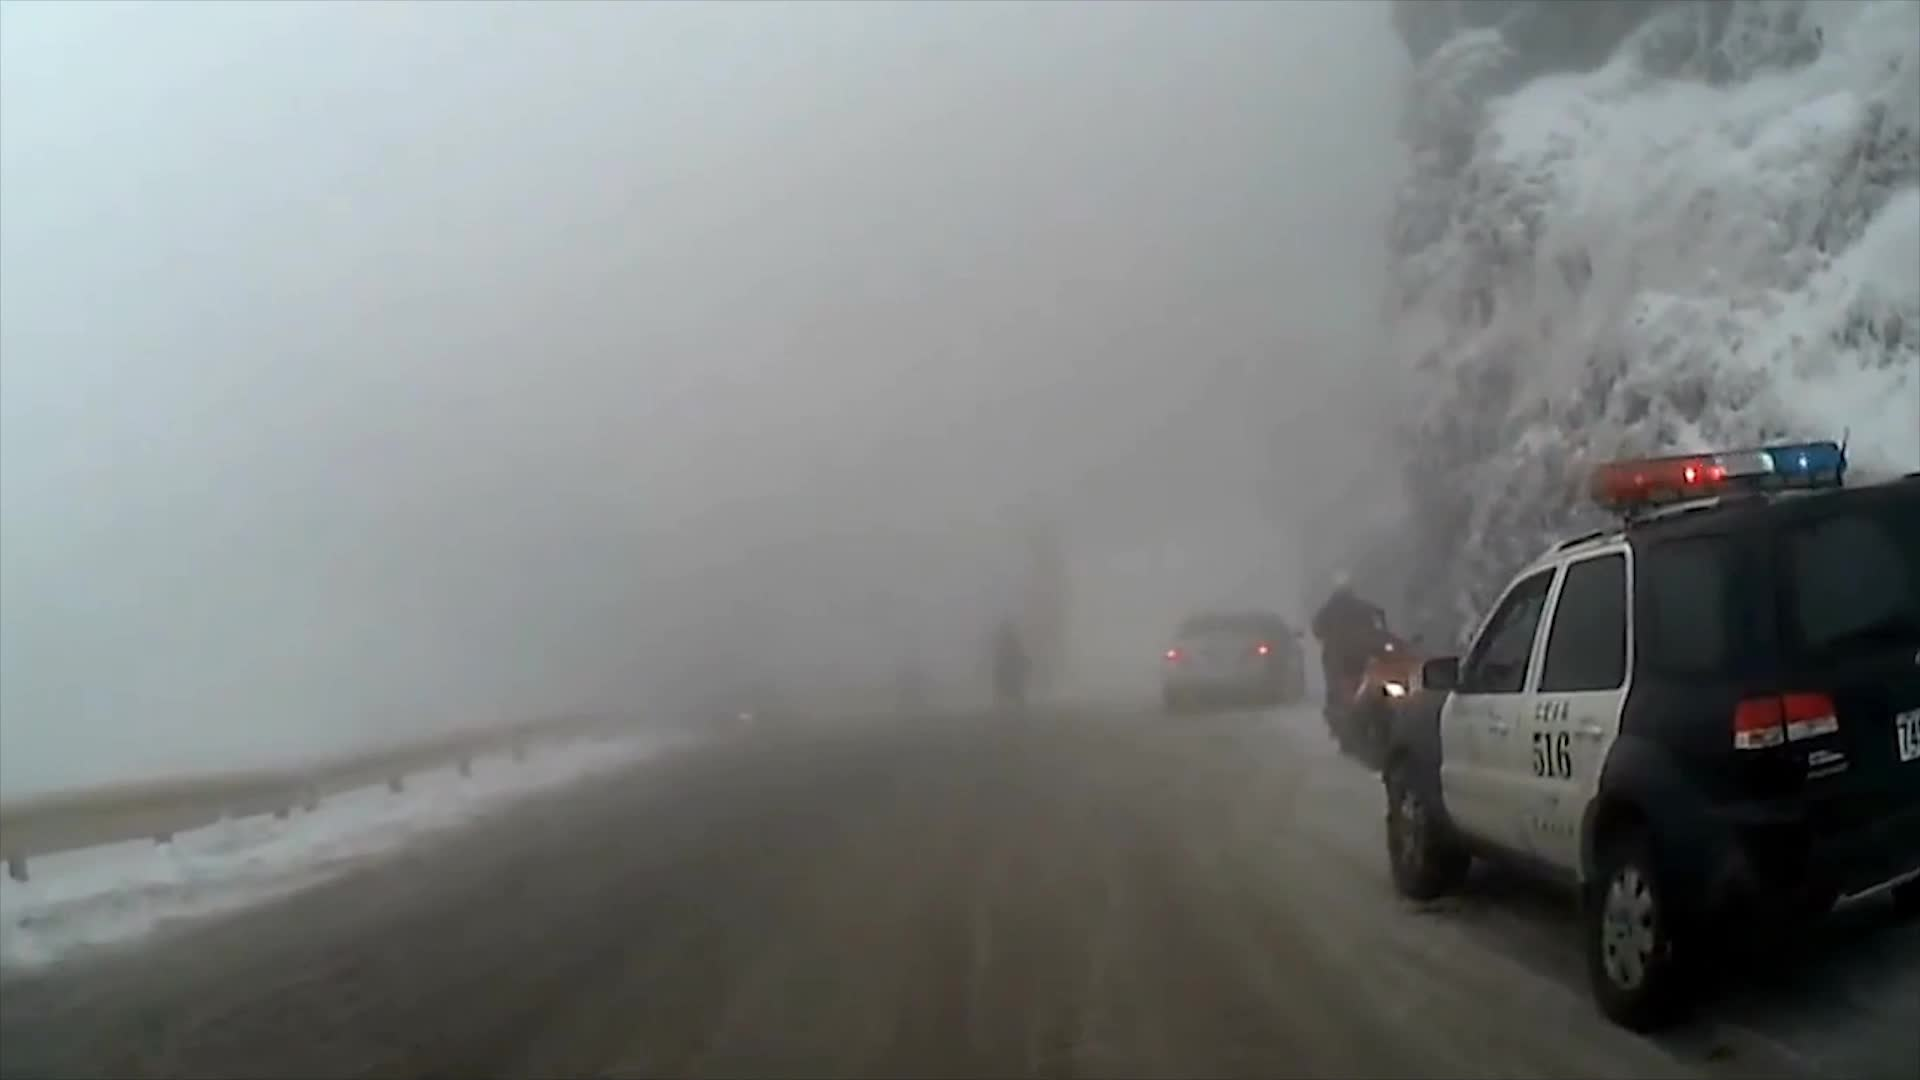pedestrian: (1313, 582, 1389, 750)
vehicle: (1377, 438, 1920, 1035), (1158, 609, 1305, 717)
